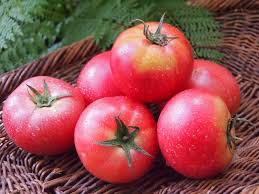tomato: (154, 90, 238, 179), (75, 98, 160, 180), (114, 20, 191, 98), (3, 79, 82, 154), (72, 53, 139, 104), (183, 58, 239, 113)
